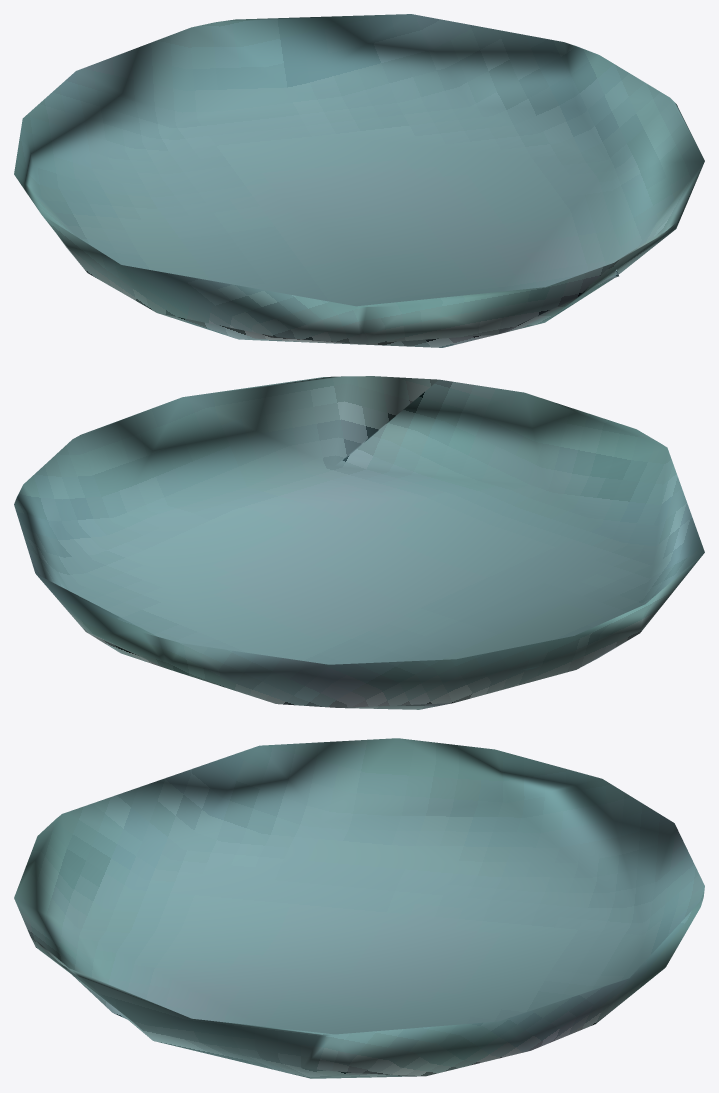
Rendered from Ecoforms_Plant_Container_S24Turquoise-low.glb.
3 renders of one model, top to bottom at view 1: azimuth 30°, elevation 25°; view 2: azimuth 150°, elevation 25°; view 3: azimuth 270°, elevation 25°, orthographic.
Visible parts, largest first — view 1: Ecoforms_Plant_Container_S24Turquoise; view 2: Ecoforms_Plant_Container_S24Turquoise; view 3: Ecoforms_Plant_Container_S24Turquoise.
Part boxes in pixels (x1=…): Ecoforms_Plant_Container_S24Turquoise: x1=14, y1=14, x2=704, y2=347; Ecoforms_Plant_Container_S24Turquoise: x1=14, y1=376, x2=704, y2=709; Ecoforms_Plant_Container_S24Turquoise: x1=14, y1=738, x2=704, y2=1078.
Size of the model in its own units: 0.2404 by 0.0323 by 0.2416.
1 material, 1 textured.
